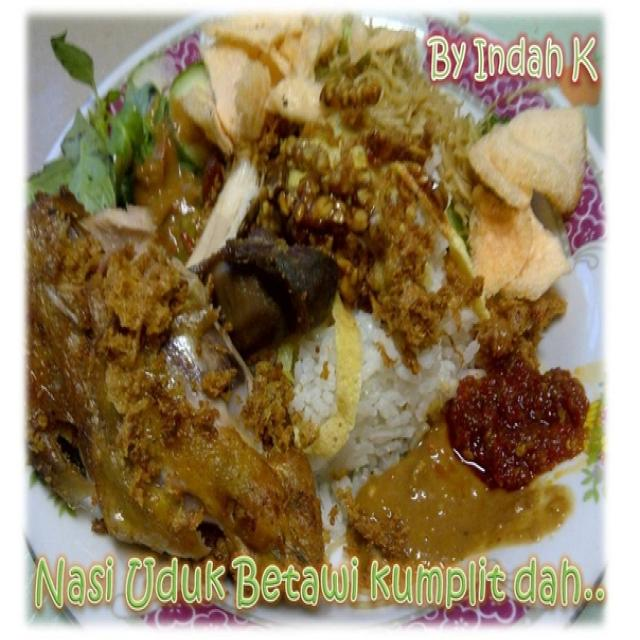米饭主食: (41, 28, 598, 597)
